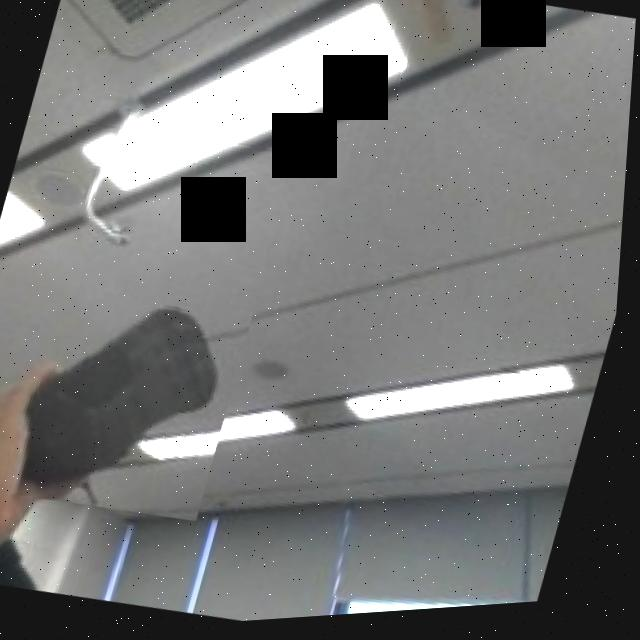shoe: (0, 241, 267, 536)
